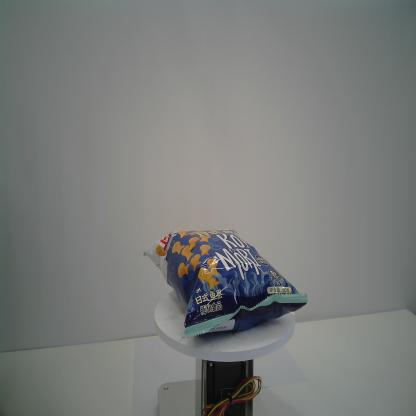Puffed Food: (142, 228, 308, 340)
